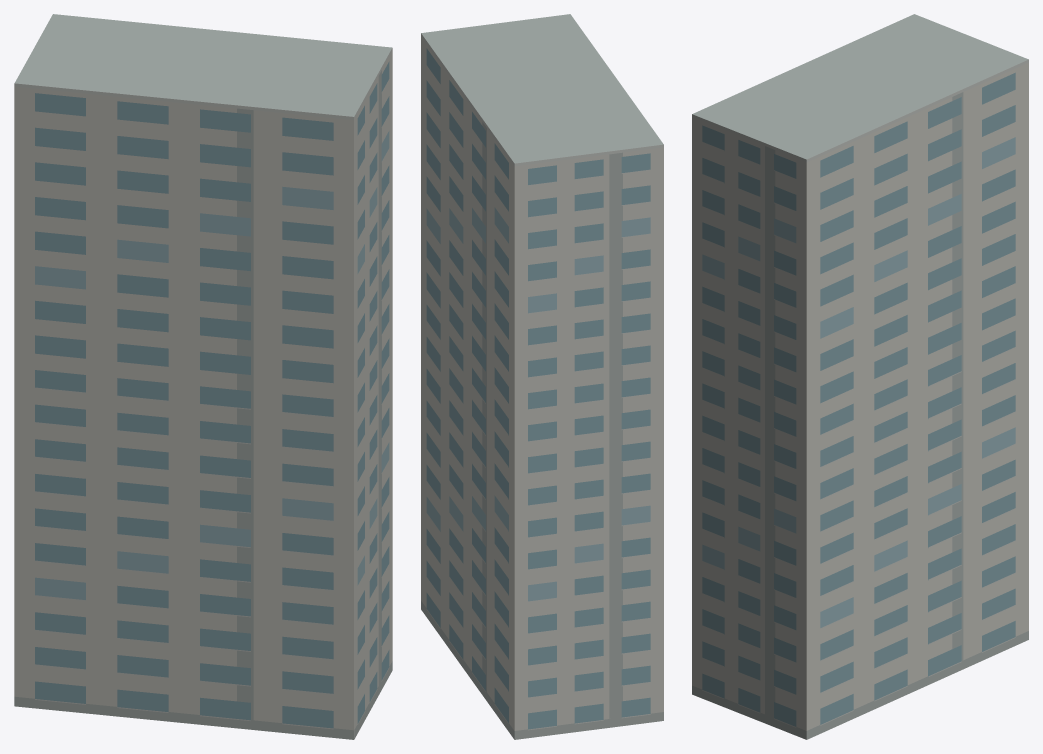
Rendered from residential-caf488d8-0ebe-4ca5-bcf5-e0c152c7f0d4.glb.
3 renders of one model, left to right at view 1: azimuth 30°, elevation 25°; view 2: azimuth 150°, elevation 25°; view 3: azimuth 270°, elevation 25°, orthographic. The views are drawn at different scales.
Parts seen in each view (by area): view 1: residential-caf488d8-0ebe-4ca5-bcf5-e0c152c7f0d4.tmp; view 2: residential-caf488d8-0ebe-4ca5-bcf5-e0c152c7f0d4.tmp; view 3: residential-caf488d8-0ebe-4ca5-bcf5-e0c152c7f0d4.tmp.
Boxes of the visible parts, x1,y1,x2,y2 form: residential-caf488d8-0ebe-4ca5-bcf5-e0c152c7f0d4.tmp: (14,14,392,739); residential-caf488d8-0ebe-4ca5-bcf5-e0c152c7f0d4.tmp: (421,14,663,739); residential-caf488d8-0ebe-4ca5-bcf5-e0c152c7f0d4.tmp: (692,14,1028,739).
Bounding box in the file's own units: 25.83 × 48 × 25.26.
